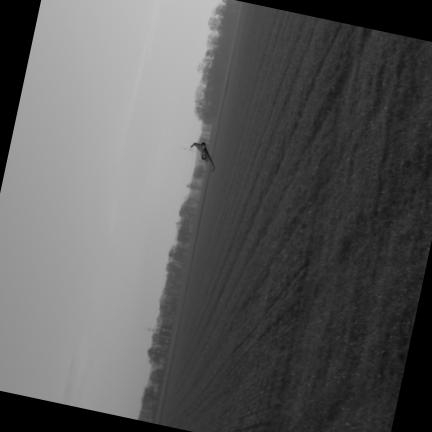Shahed: (191, 142, 214, 170)
